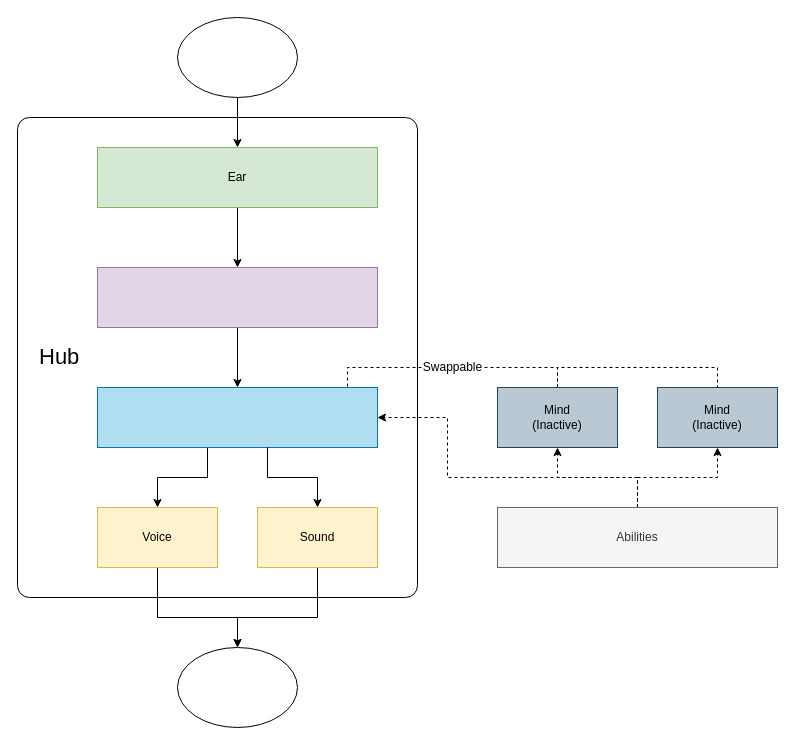
This 795x745 diagram has some shape labels left out. The shapes that lost their labels are listed below. From the top down, each one's centre as x and y in pixels, then its label:
At pixel 237 57: "Audio Input".
At pixel 237 297: "Speech Recognition".
At pixel 237 417: "Mind (Active)".
At pixel 237 687: "Audio Output".
